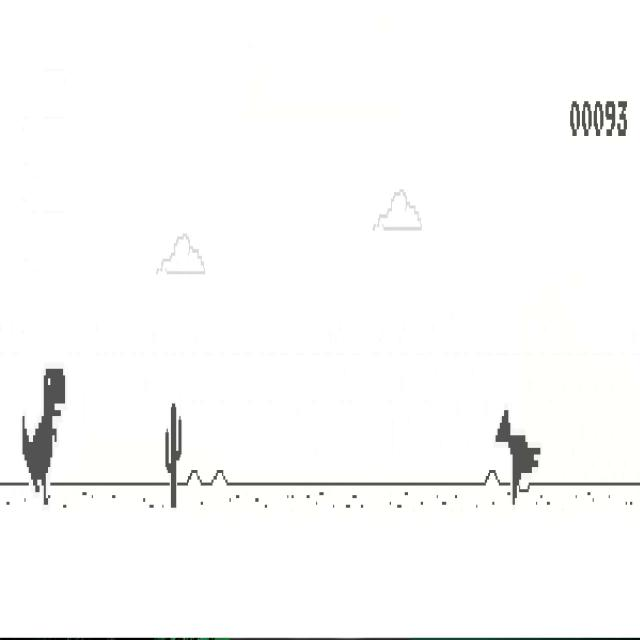cacto: (165, 402, 182, 509)
dino: (22, 368, 66, 507)
ptero: (495, 409, 541, 506)
